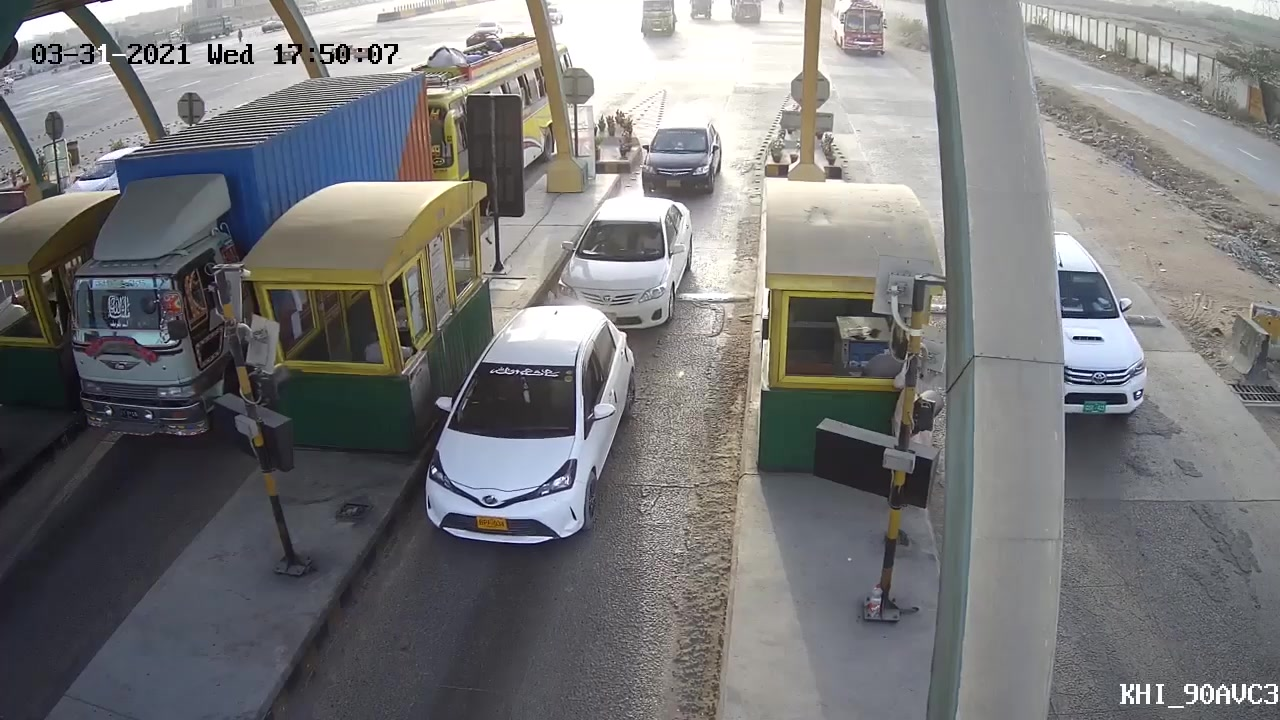F1: (429, 308, 635, 557), (554, 190, 696, 342), (635, 121, 726, 201)
